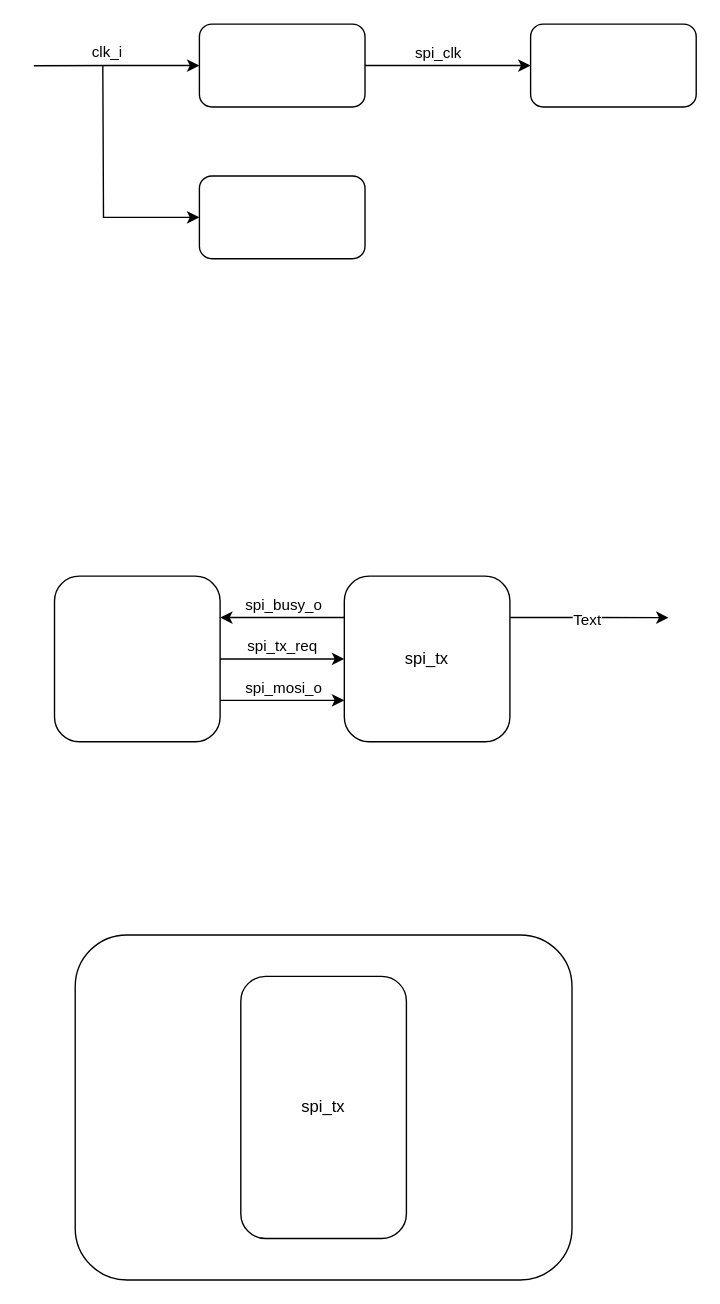
This 720x1304 diagram has some shape labels left out. The shapes that lost their labels are listed below. From the top down, each one's centre as x and y in pixels, then its label:
At point 281,65: "时钟分频器".
At point 136,658: "spi_tx_master".
